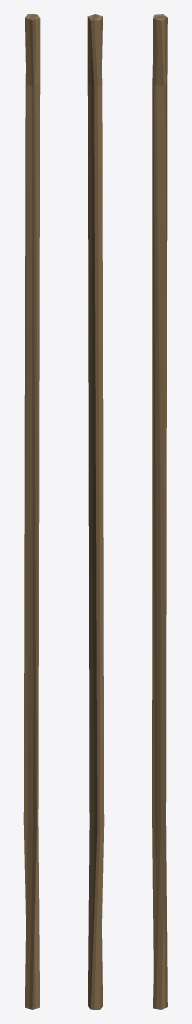
File: samurai_SM_Gen_Prop_Rope_01.gltf
The picture shows the model from 3 angles, left to right: view 1: azimuth 30°, elevation 25°; view 2: azimuth 210°, elevation 25°; view 3: azimuth 330°, elevation 25°; orthographic projection.
Visible parts, largest first — view 1: SM_Gen_Prop_Rope_01; view 2: SM_Gen_Prop_Rope_01; view 3: SM_Gen_Prop_Rope_01.
Boxes of the visible parts, x1,y1,x2,y2 form: SM_Gen_Prop_Rope_01: (23,14,40,1009); SM_Gen_Prop_Rope_01: (87,14,104,1009); SM_Gen_Prop_Rope_01: (152,14,167,1009).
Bounding box in the file's own units: 0.042 × 3 × 0.0427.
1 material, 1 textured.
